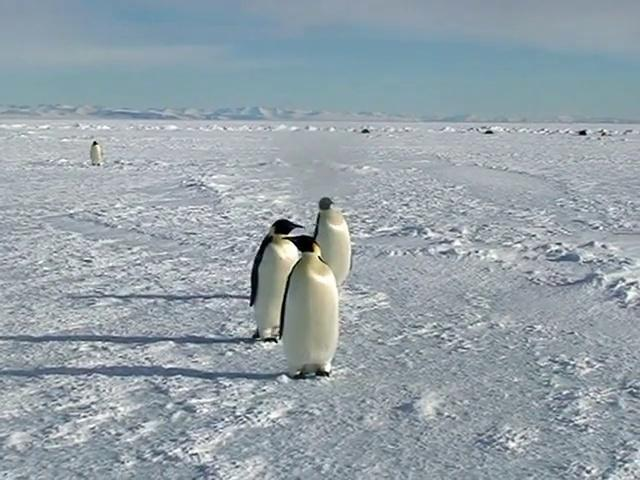animal: (315, 199, 352, 287)
